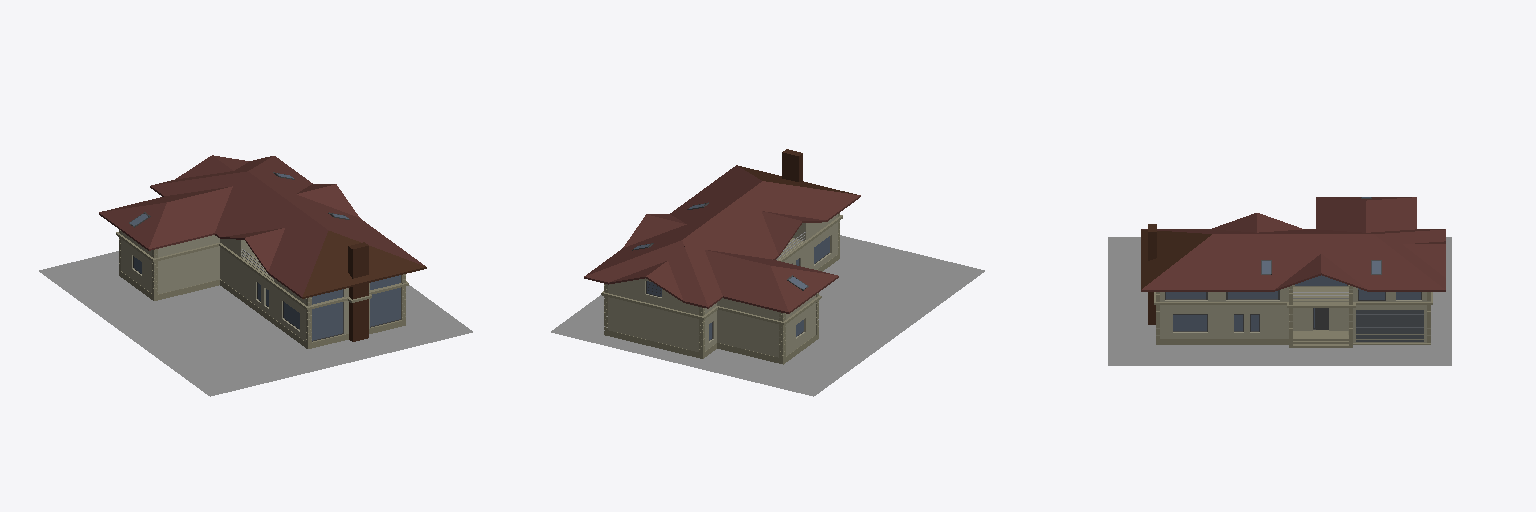
Rendered from housea.obj.
3 renders of one model, left to right at view 1: azimuth 30°, elevation 25°; view 2: azimuth 150°, elevation 25°; view 3: azimuth 270°, elevation 25°, orthographic.
Size of the model in its own units: 24.02 by 8.2 by 27.11.